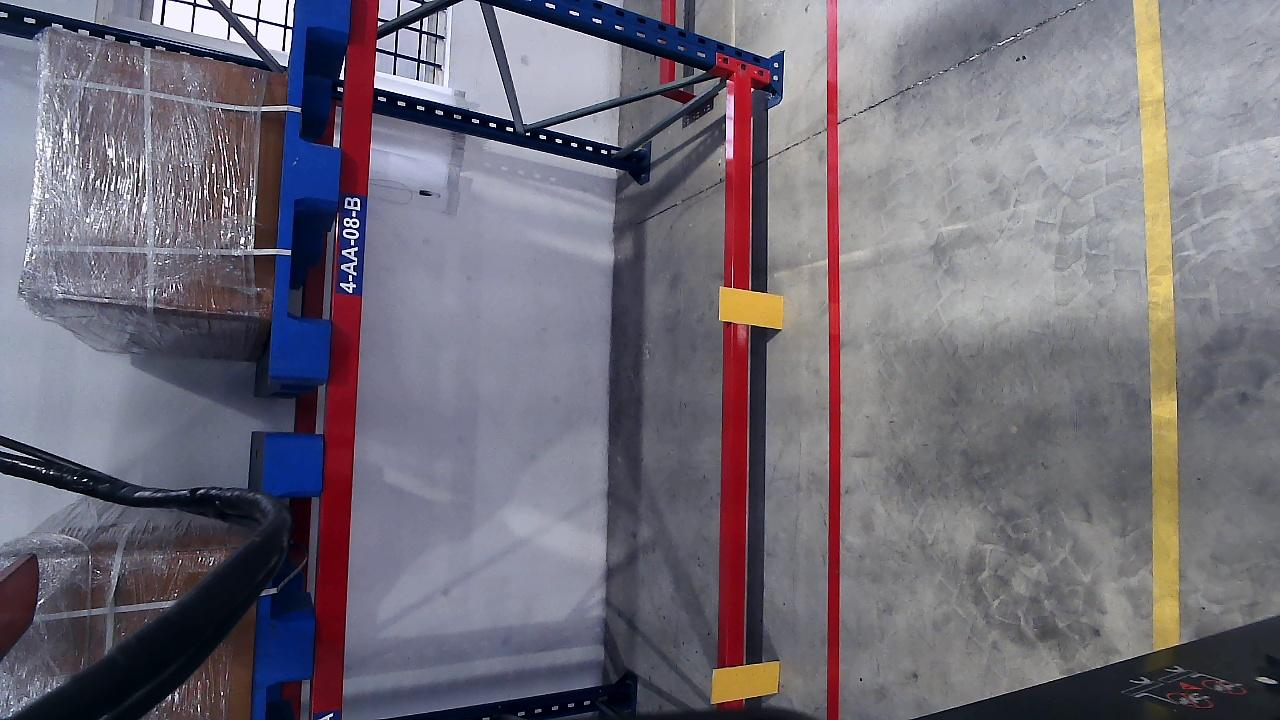h_rack: (312, 3, 375, 720), (725, 76, 758, 662)
orange_strip: (710, 660, 780, 702), (718, 287, 784, 329)
red_line: (822, 0, 844, 720)
small_pallet: (269, 0, 354, 377), (246, 428, 325, 720)
yellow_line: (1135, 0, 1181, 598)
